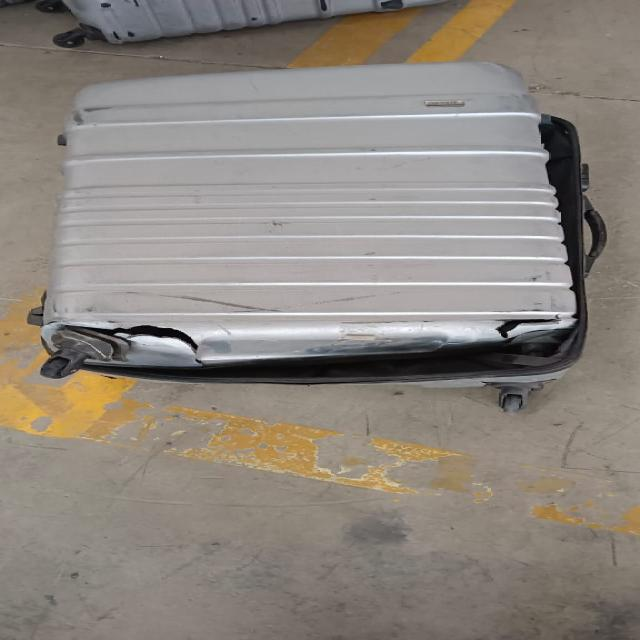Damage-bag: (44, 115, 594, 384), (28, 302, 44, 326)
